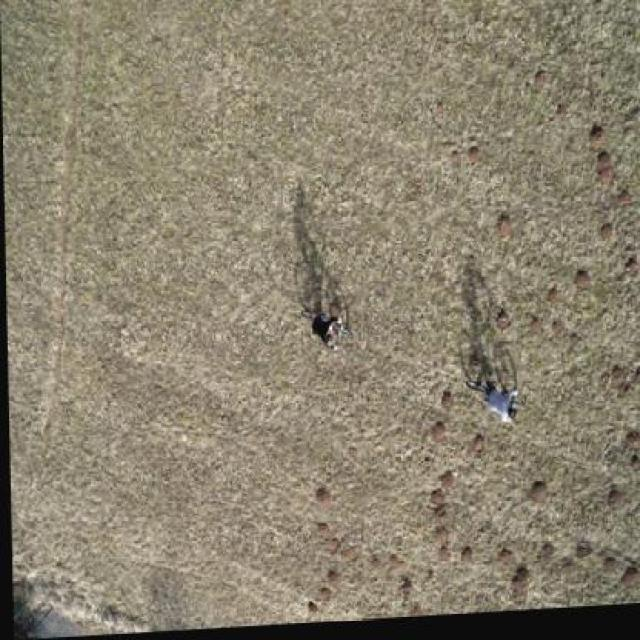Person: (477, 392, 529, 434), (304, 313, 345, 358)
